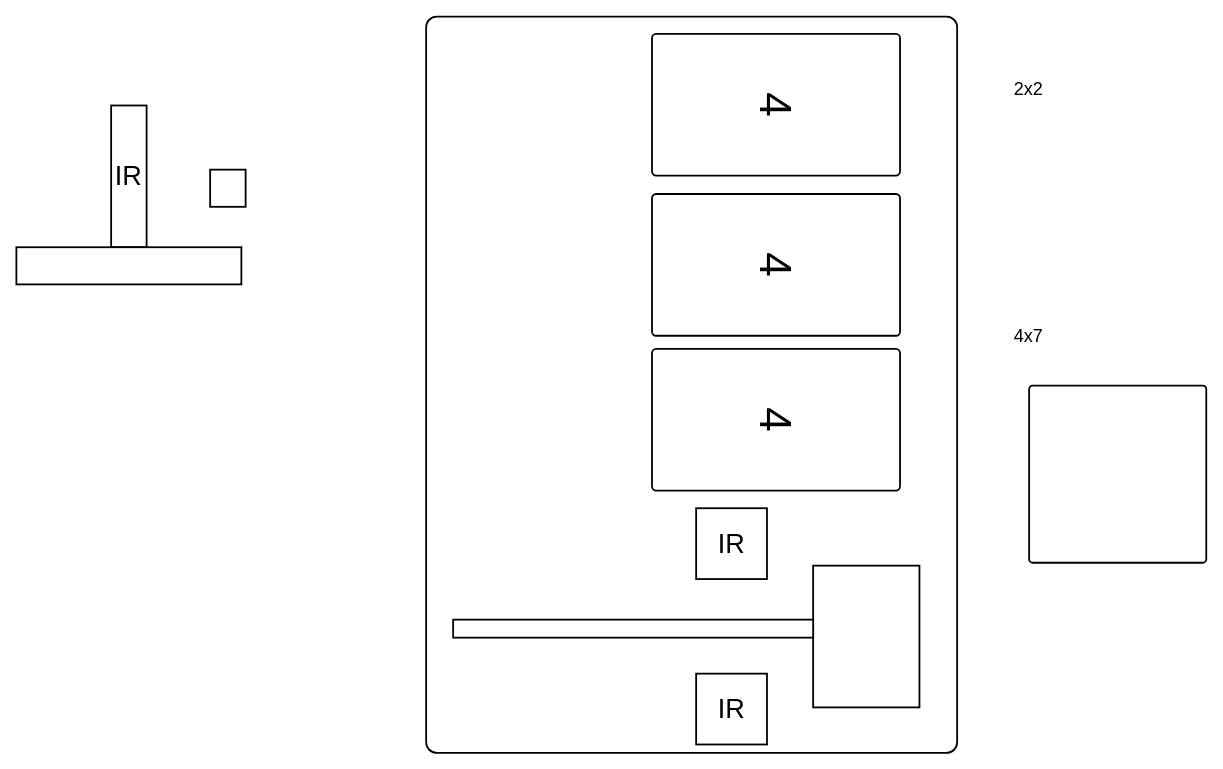
Some shapes in this 1223 by 769 pixel diagram are drawn without their labels. Here are the shapes that lost their labels. From the top down, the centre of each, then its label:
(1117,473): Modul
(866,636): Servo
